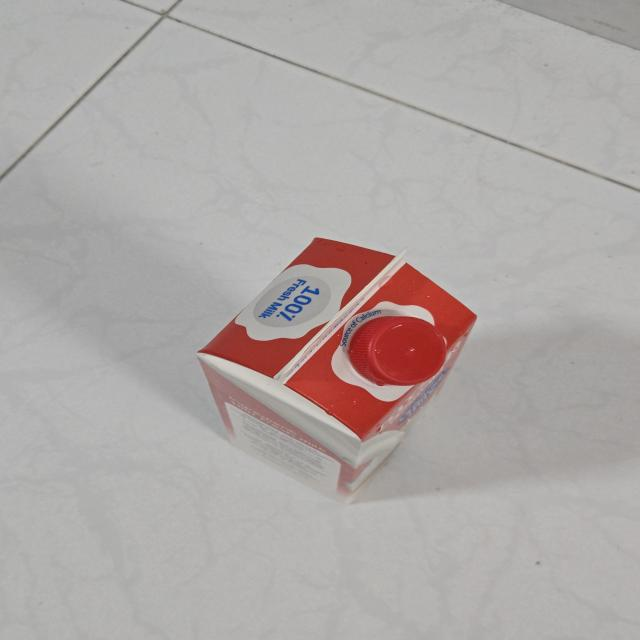milk: (186, 227, 485, 518)
